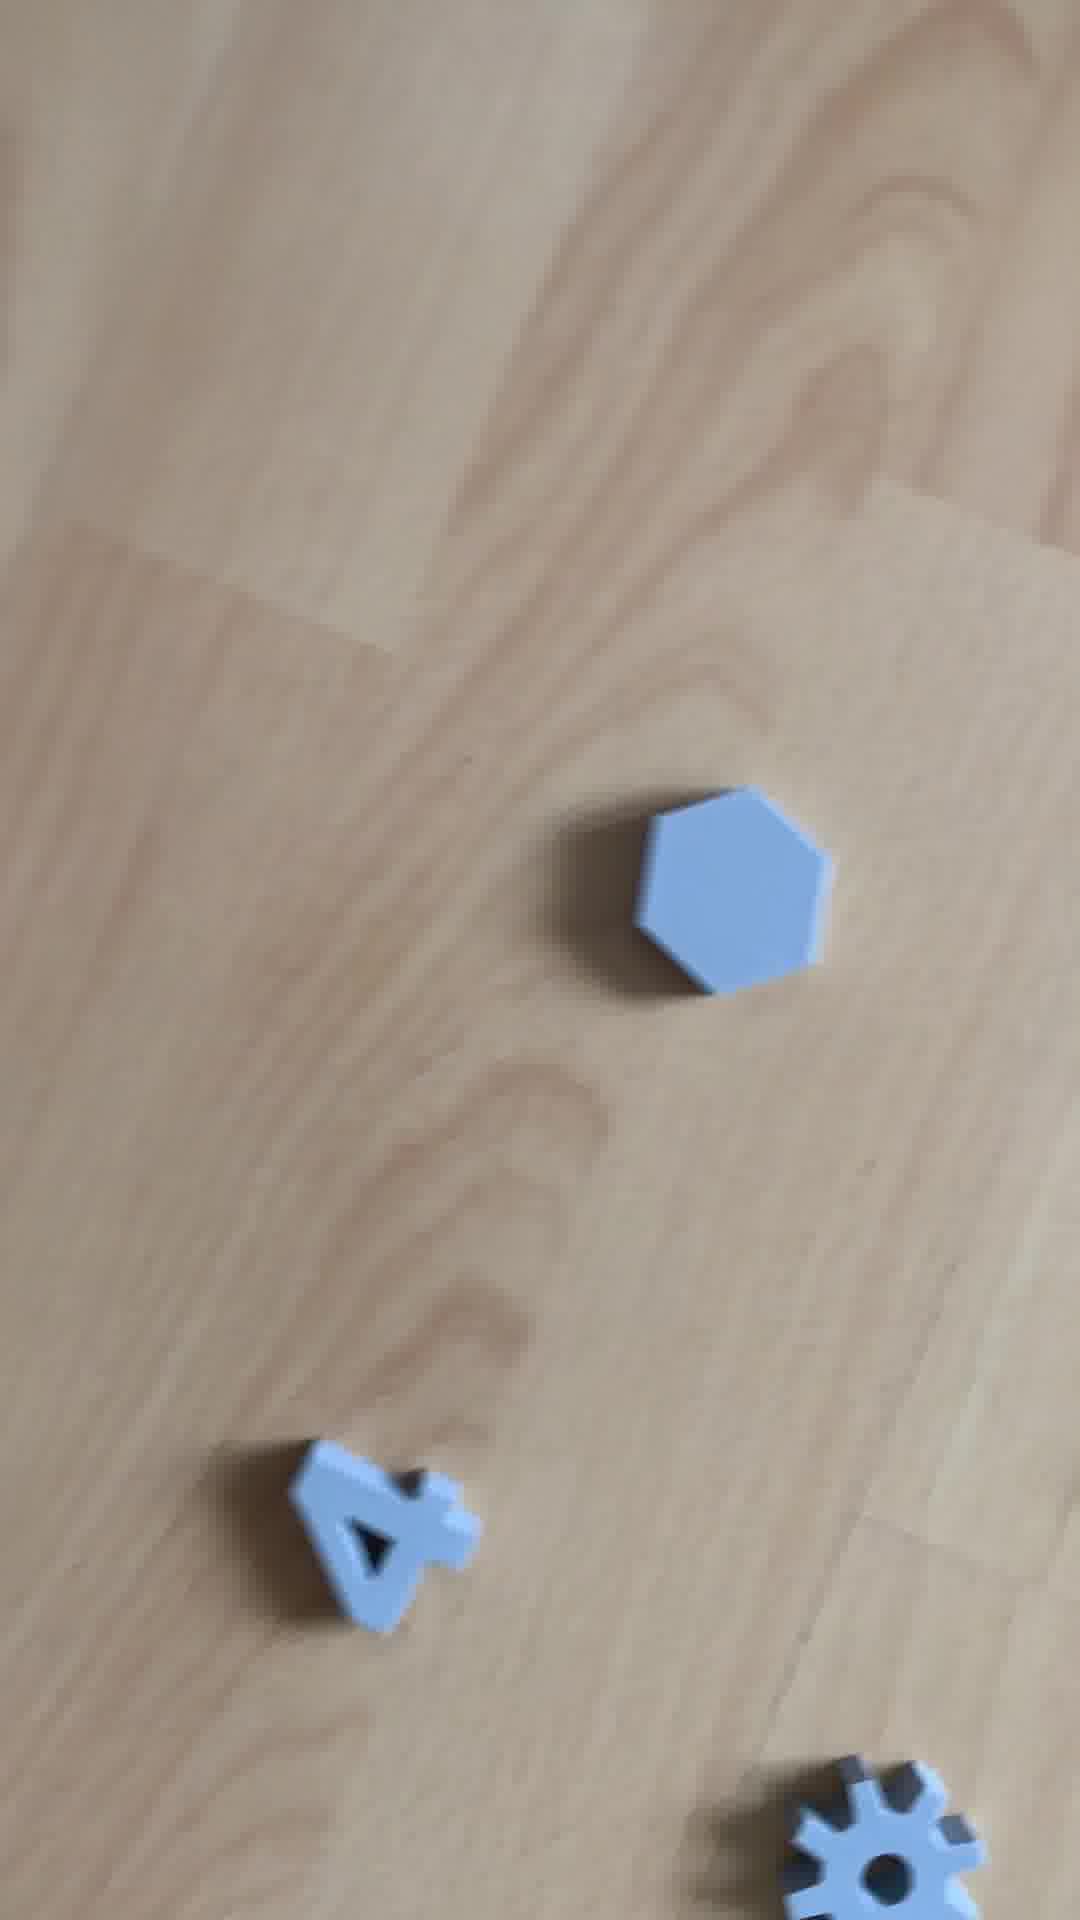Gray four: (282, 1422, 473, 1654)
Gray gear: (753, 1754, 1004, 1920)
Gray hexagon: (638, 787, 852, 1004)
